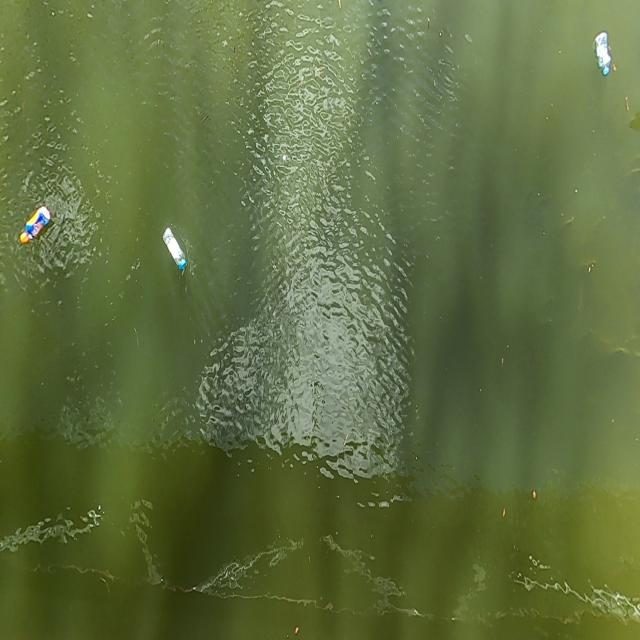Bouteille plastique: (14, 198, 55, 251), (156, 215, 190, 274), (590, 24, 612, 82)
